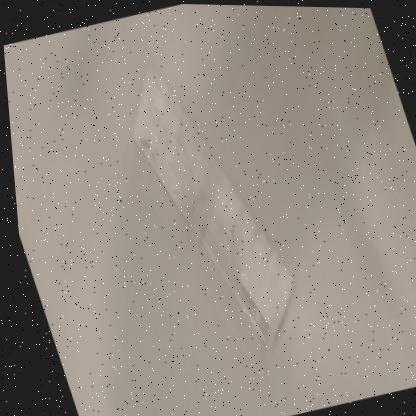vef_back: (107, 45, 310, 366)
